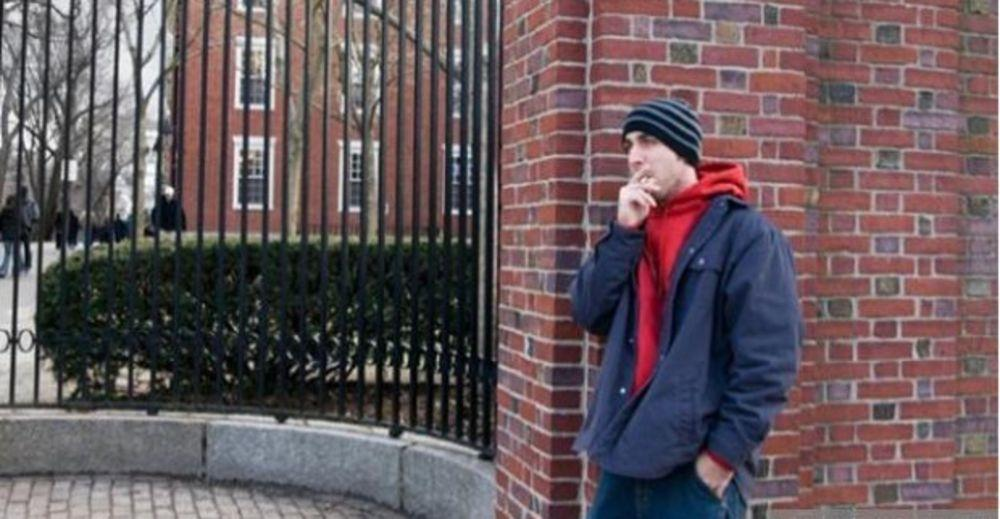cigarette: (633, 174, 652, 191)
